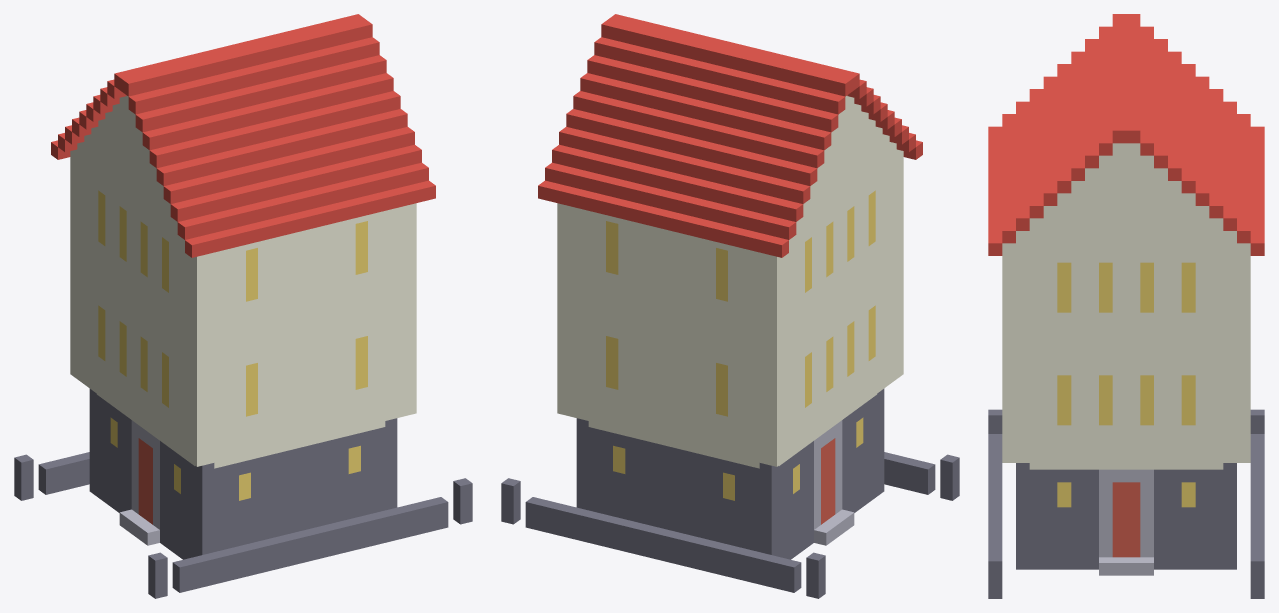
File: Casa5.glb
3 renders of one model, left to right at view 1: azimuth 30°, elevation 25°; view 2: azimuth 150°, elevation 25°; view 3: azimuth 270°, elevation 25°, orthographic. The views are drawn at different scales.
Visible parts, largest first — view 1: Build- 7; view 2: Build- 7; view 3: Build- 7.
Boxes of the visible parts, bbox=[...] form: Build- 7: bbox=[14, 14, 472, 598]; Build- 7: bbox=[501, 14, 959, 598]; Build- 7: bbox=[988, 14, 1264, 598].
Bounding box in the file's own units: 2.6 × 3.6 × 2.
Materials: 1 (1 with a texture image).
